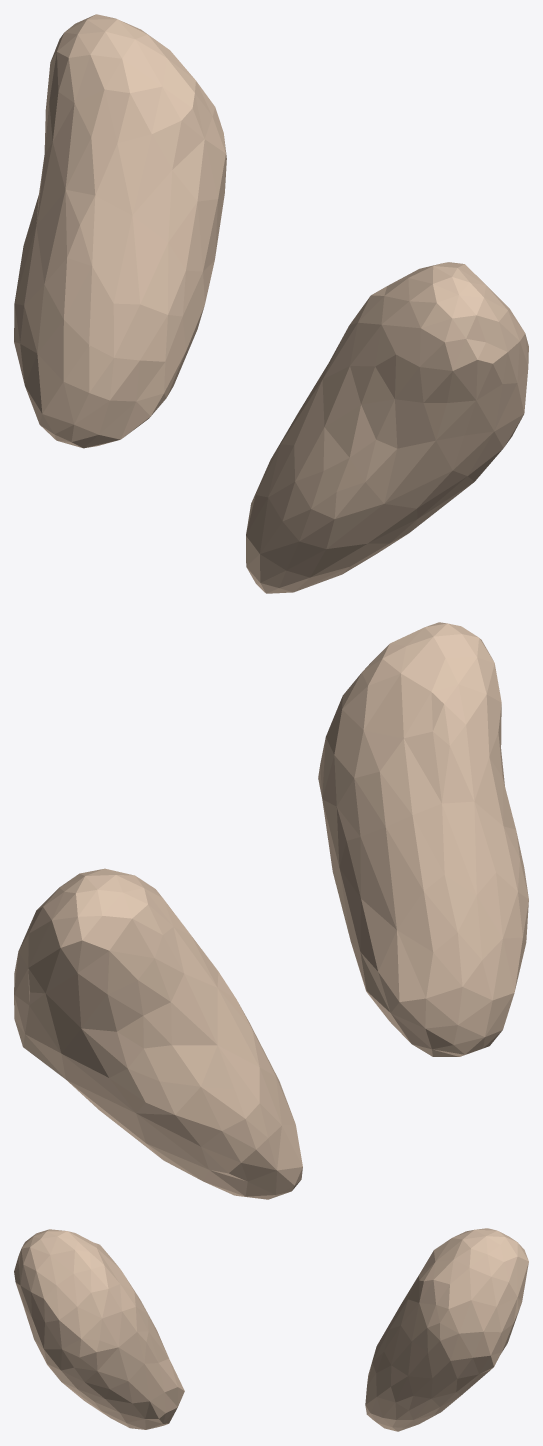
The picture shows the model from 3 angles, top to bottom: view 1: azimuth 30°, elevation 25°; view 2: azimuth 150°, elevation 25°; view 3: azimuth 270°, elevation 25°; orthographic projection. The views are drawn at different scales.
Parts seen in each view (by area): view 1: 162.obj; view 2: 162.obj; view 3: 162.obj.
Part boxes in pixels (x1,y1,x2,y2): 162.obj: (14, 14, 528, 593); 162.obj: (14, 622, 528, 1199); 162.obj: (14, 1228, 528, 1431).
Bounding box in the file's own units: 536 × 790 × 1678.
